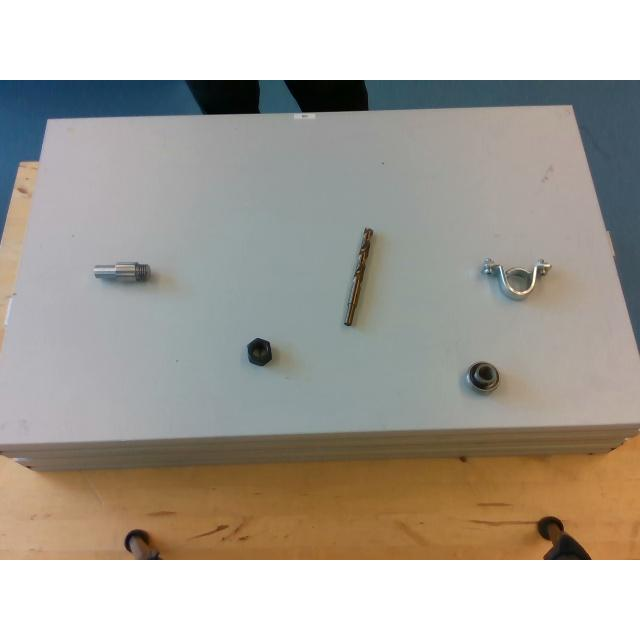Axis2: (94, 261, 152, 285)
Bearing2: (467, 361, 499, 392)
Drill: (343, 227, 371, 325)
Housing: (482, 258, 550, 298)
M20: (246, 338, 270, 366)
S40_40_B: (282, 80, 366, 112)
